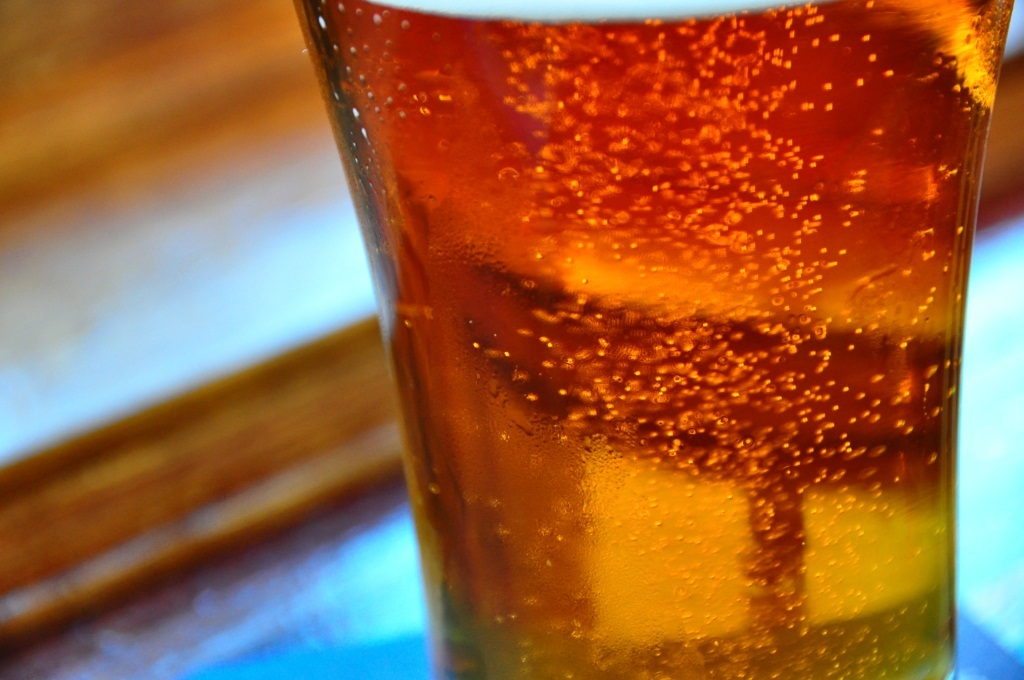Beer: (292, 0, 1014, 679)
